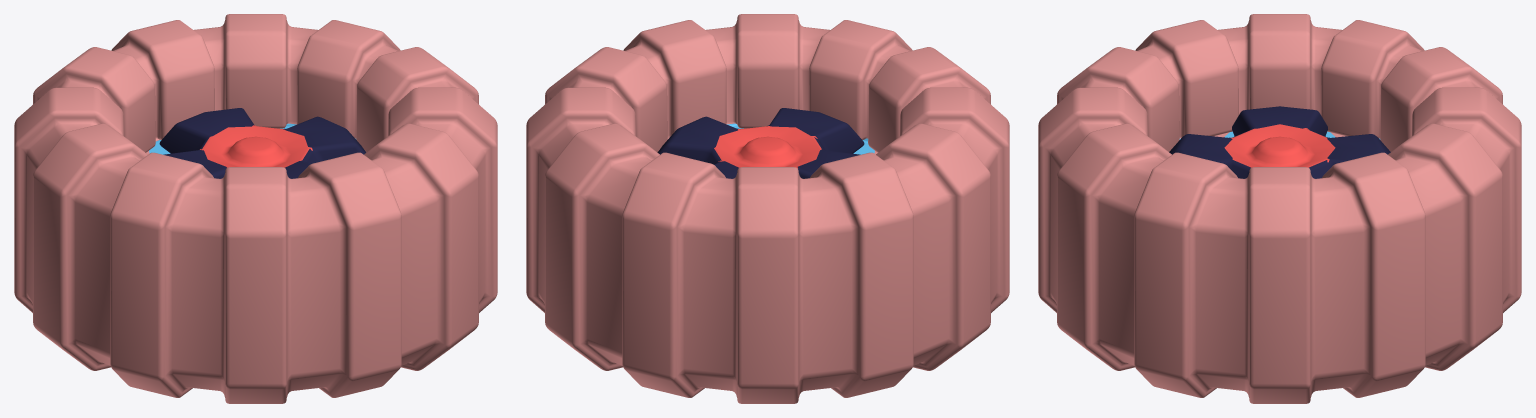
Rendered from ban.glb.
The picture shows the model from 3 angles, left to right: view 1: azimuth 30°, elevation 25°; view 2: azimuth 150°, elevation 25°; view 3: azimuth 270°, elevation 25°; orthographic projection.
Visible parts, largest first — view 1: Cylinder; view 2: Cylinder; view 3: Cylinder.
Part boxes in pixels (x1=…): Cylinder: x1=14, y1=14, x2=497, y2=403; Cylinder: x1=526, y1=14, x2=1009, y2=403; Cylinder: x1=1038, y1=14, x2=1521, y2=403.
Size of the model in its own units: 2.03 by 1.02 by 2.03.
